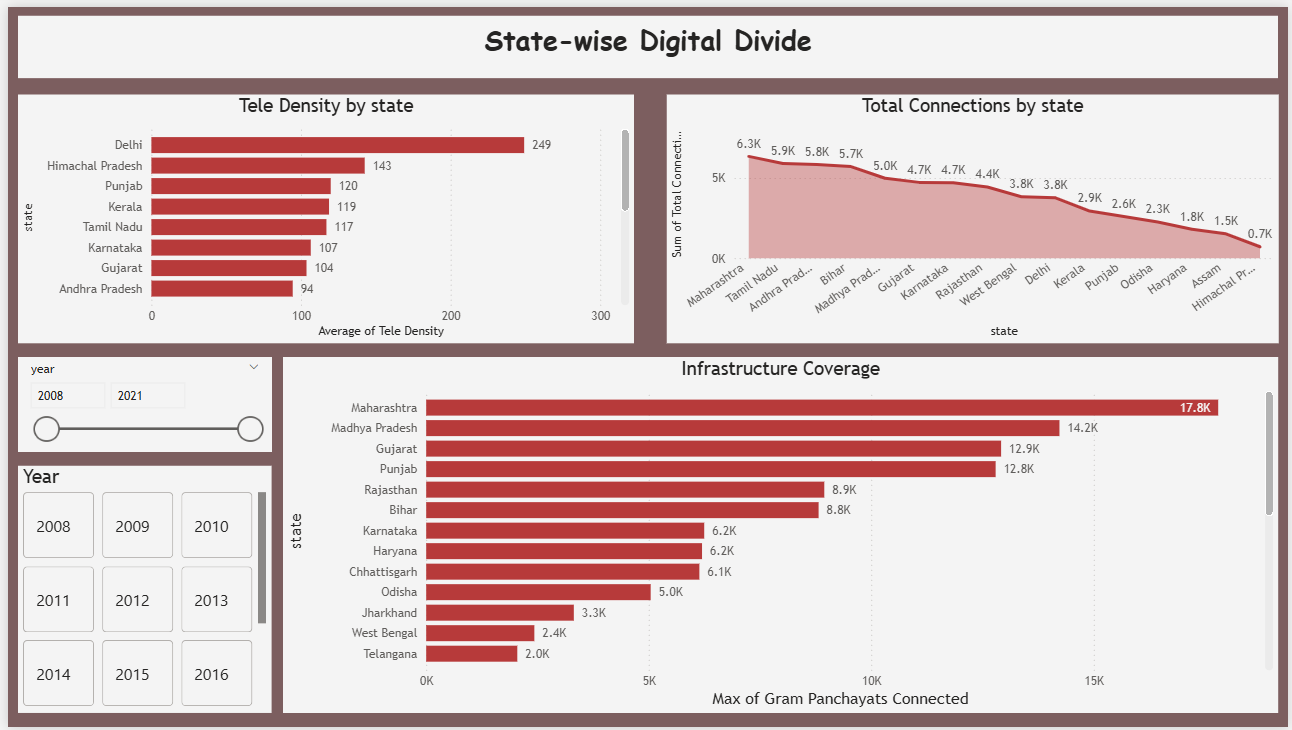

The page's visual inventory and layout, read from the dashboard file:
{"tool":"powerbi","page":{"name":"State-wise Digital Divide","canvas":[1280,720],"ordinal":1},"visuals":[{"type":"textbox","box":[10,8.8,1260,62.5],"z":0},{"type":"clusteredBarChart","title":"Tele Density by state","fields":{"Category":["telecom_dw dim_location.state"],"Y":["Avg(telecom_dw fact_telecom_infra.Tele Density)"]},"box":[9.8,87,616.3,248.5],"z":1000},{"type":"areaChart","title":"Total Connections by state","fields":{"Category":["telecom_dw dim_location.state"],"Y":["Sum(telecom_dw fact_telecom_infra.Total Connections)"]},"box":[658.4,87,612.1,248.5],"z":2000},{"type":"clusteredBarChart","title":"Infrastructure Coverage","fields":{"Category":["telecom_dw dim_location.state"],"Y":["Max(telecom_dw fact_telecom_infra.Gram Panchayats Connected)"]},"box":[275.1,349.9,995.3,355.9],"z":3000},{"type":"advancedSlicerVisual","fields":{"Values":["telecom_dw fact_telecom_infra.telecom_dw dim_time.year"]},"box":[9.7,458.4,253.4,247.3],"z":4000},{"type":"slicer","fields":{"Values":["telecom_dw fact_telecom_infra.telecom_dw dim_time.year"]},"box":[9.7,349.9,253.4,94.1],"z":5000}]}

Visuals, with their boxes in screenshot pixels (x1, y1, x2, y2), scaled from the page's 1280x720 canvas onto the 1292x730 screenshot:
textbox: <bbox>10, 9, 1282, 72</bbox>
"Tele Density by state" clusteredBarChart: <bbox>10, 88, 632, 340</bbox>
"Total Connections by state" areaChart: <bbox>665, 88, 1282, 340</bbox>
"Infrastructure Coverage" clusteredBarChart: <bbox>278, 355, 1282, 716</bbox>
advancedSlicerVisual - telecom_dw fact_telecom_infra.telecom_dw dim_time.year: <bbox>10, 465, 266, 716</bbox>
slicer - telecom_dw fact_telecom_infra.telecom_dw dim_time.year: <bbox>10, 355, 266, 450</bbox>
